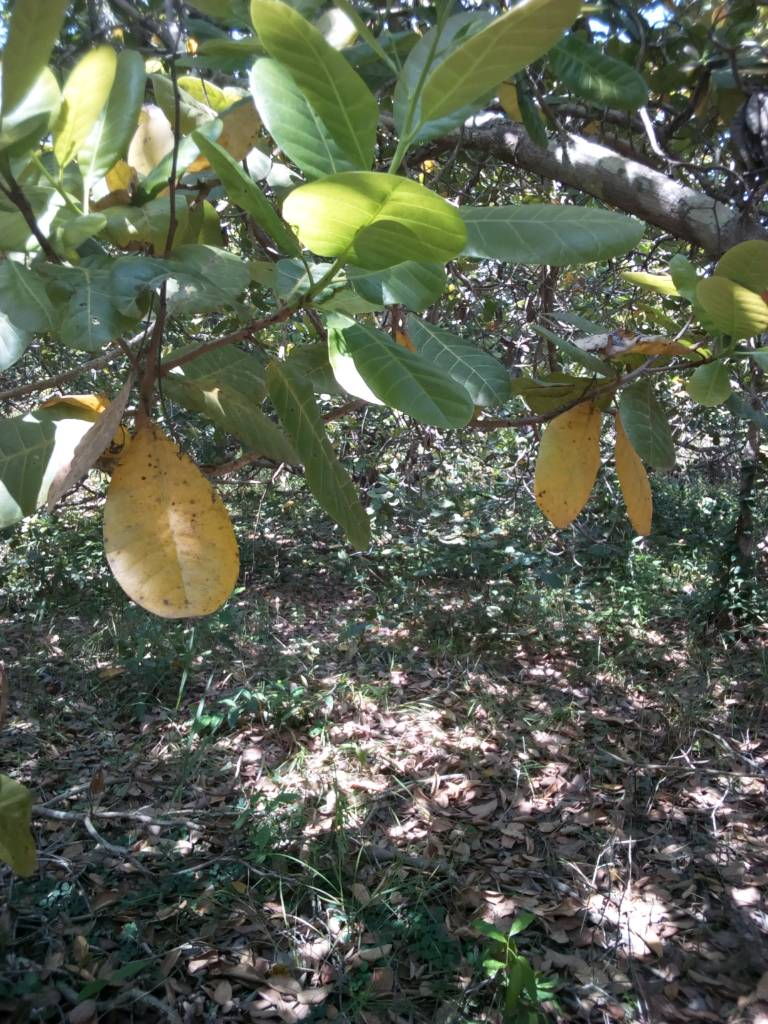Anthracnose: (105, 425, 246, 625), (529, 394, 611, 527)
